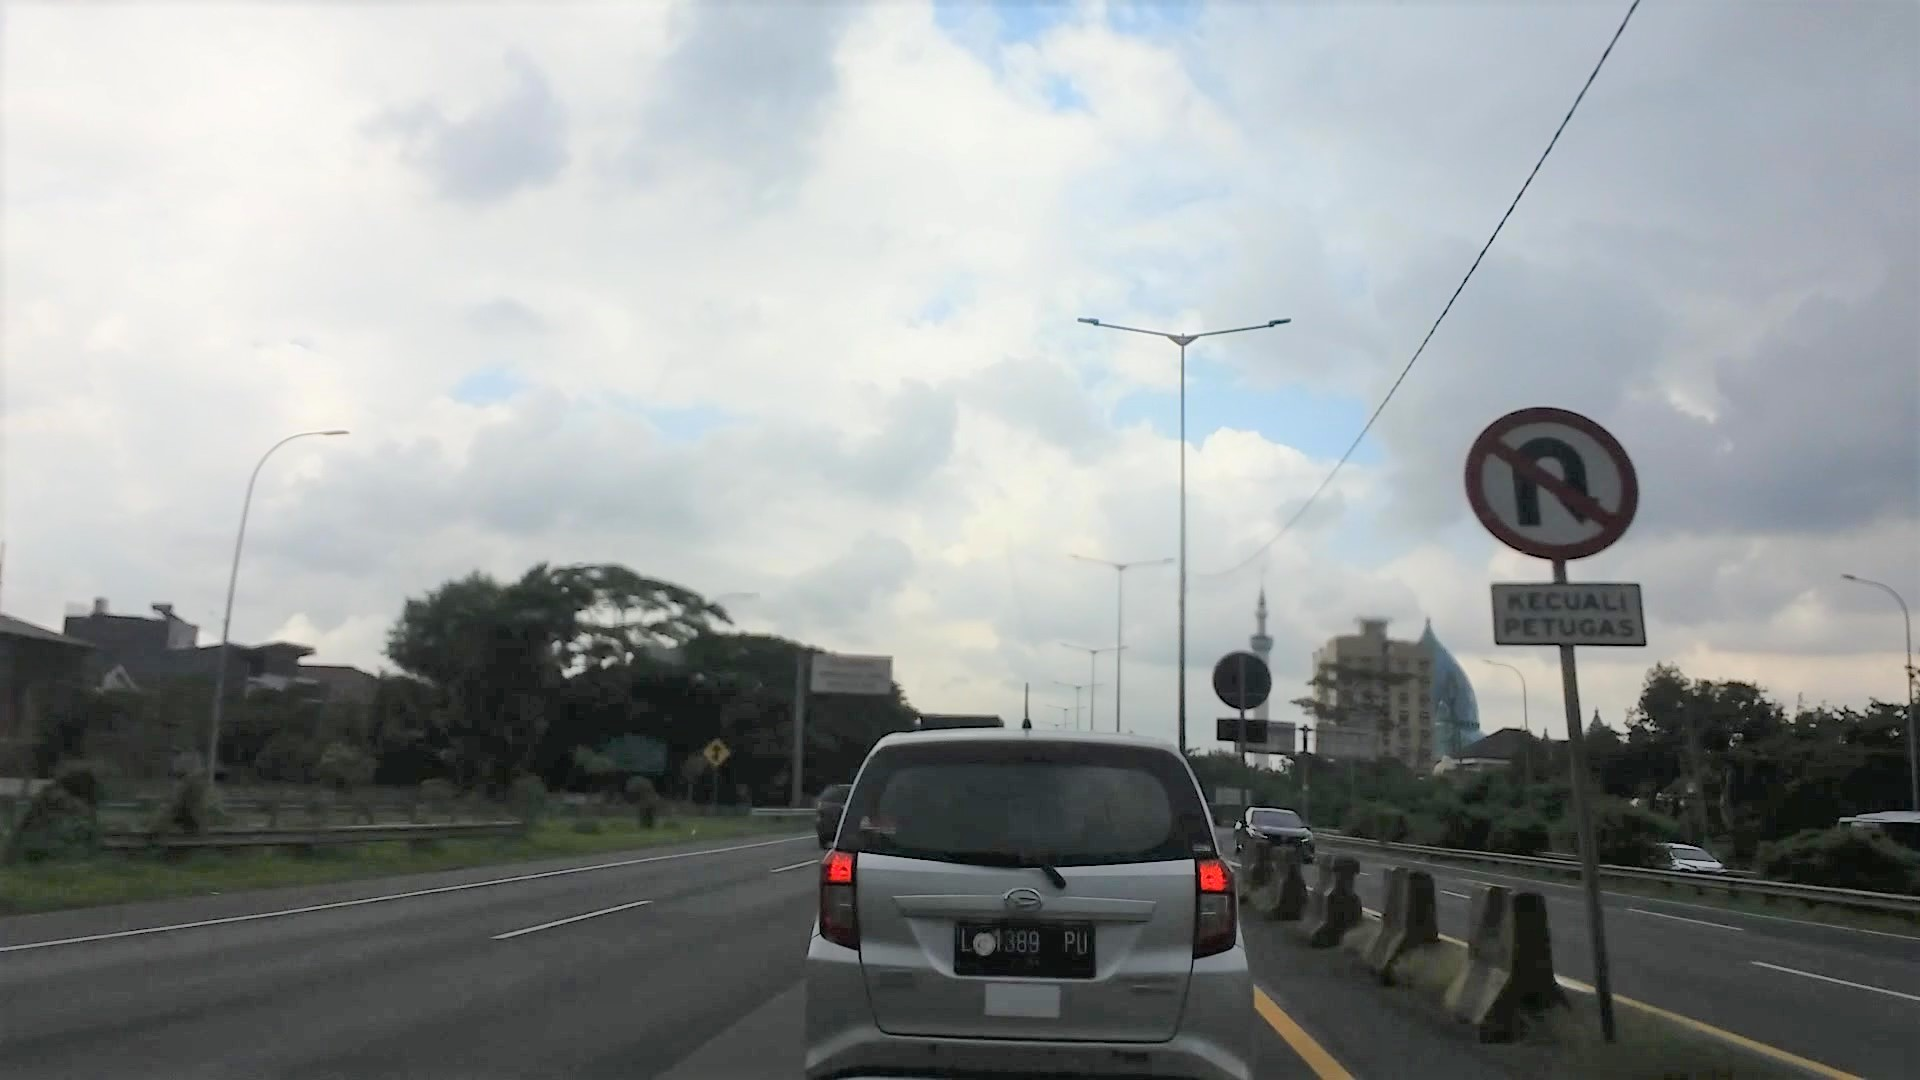plate_positive: (955, 919, 1095, 978)
